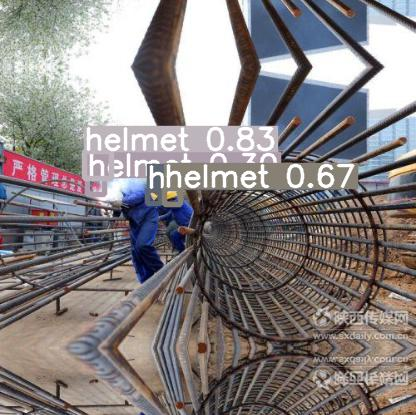helmet: (84, 151, 111, 178), (87, 177, 104, 194), (164, 188, 180, 204), (147, 189, 160, 203)
